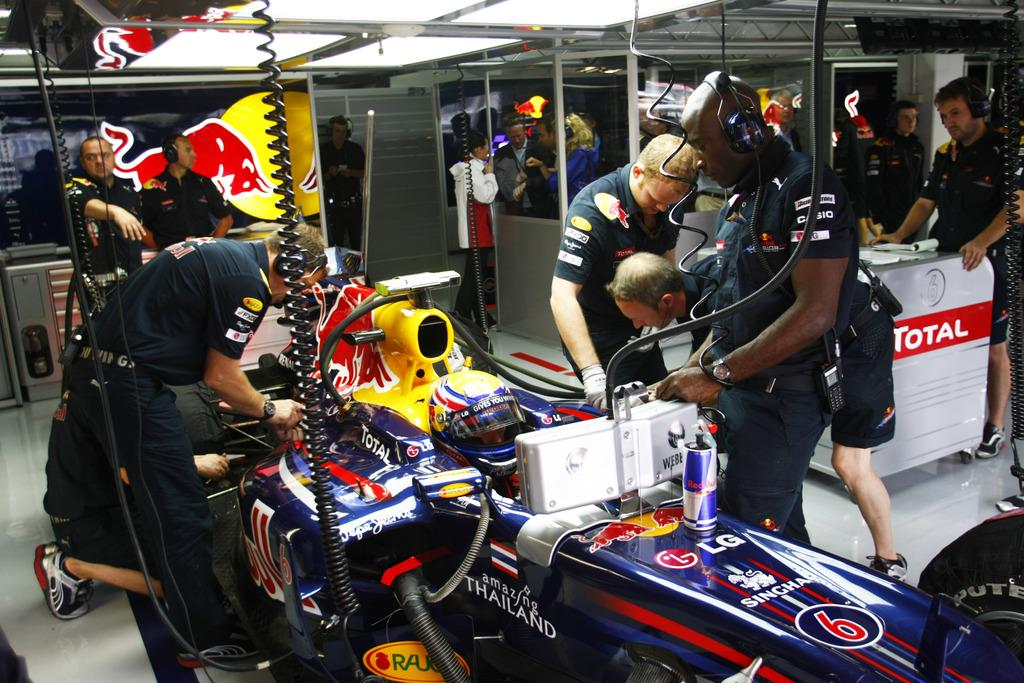helmet: (427, 370, 526, 480)
nohelmet: (678, 72, 767, 191), (605, 250, 692, 333), (628, 132, 700, 221), (257, 220, 328, 308), (933, 75, 993, 144), (78, 135, 116, 184), (160, 133, 197, 173), (889, 98, 921, 138), (536, 110, 566, 152), (501, 111, 526, 150), (463, 129, 490, 163)
